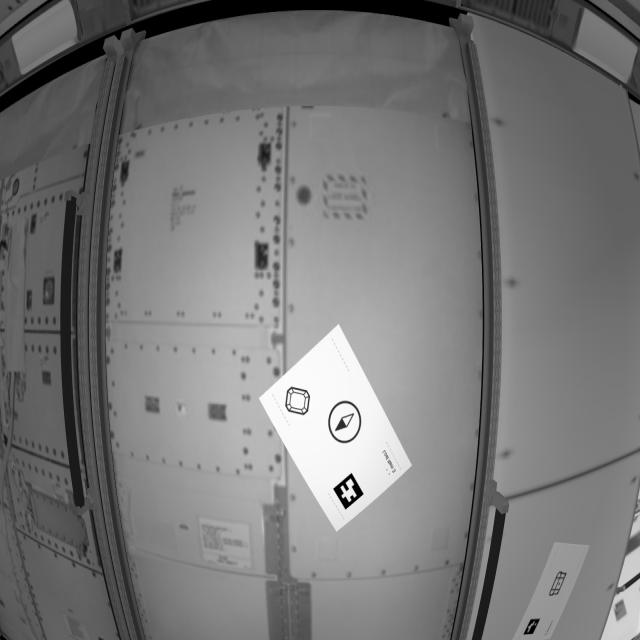compass: (326, 393, 364, 448)
emerald: (286, 383, 312, 418)
treasure_box: (549, 571, 570, 599)
